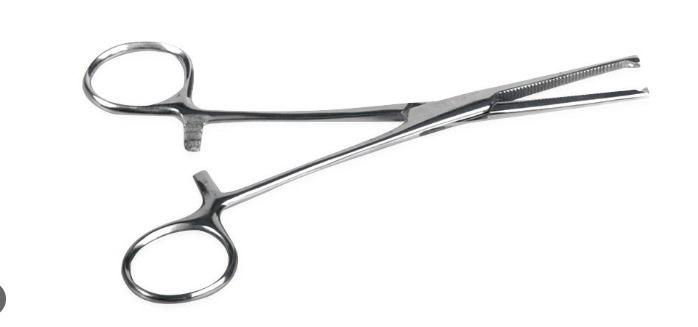Kocher Forceps: (82, 37, 656, 304)
